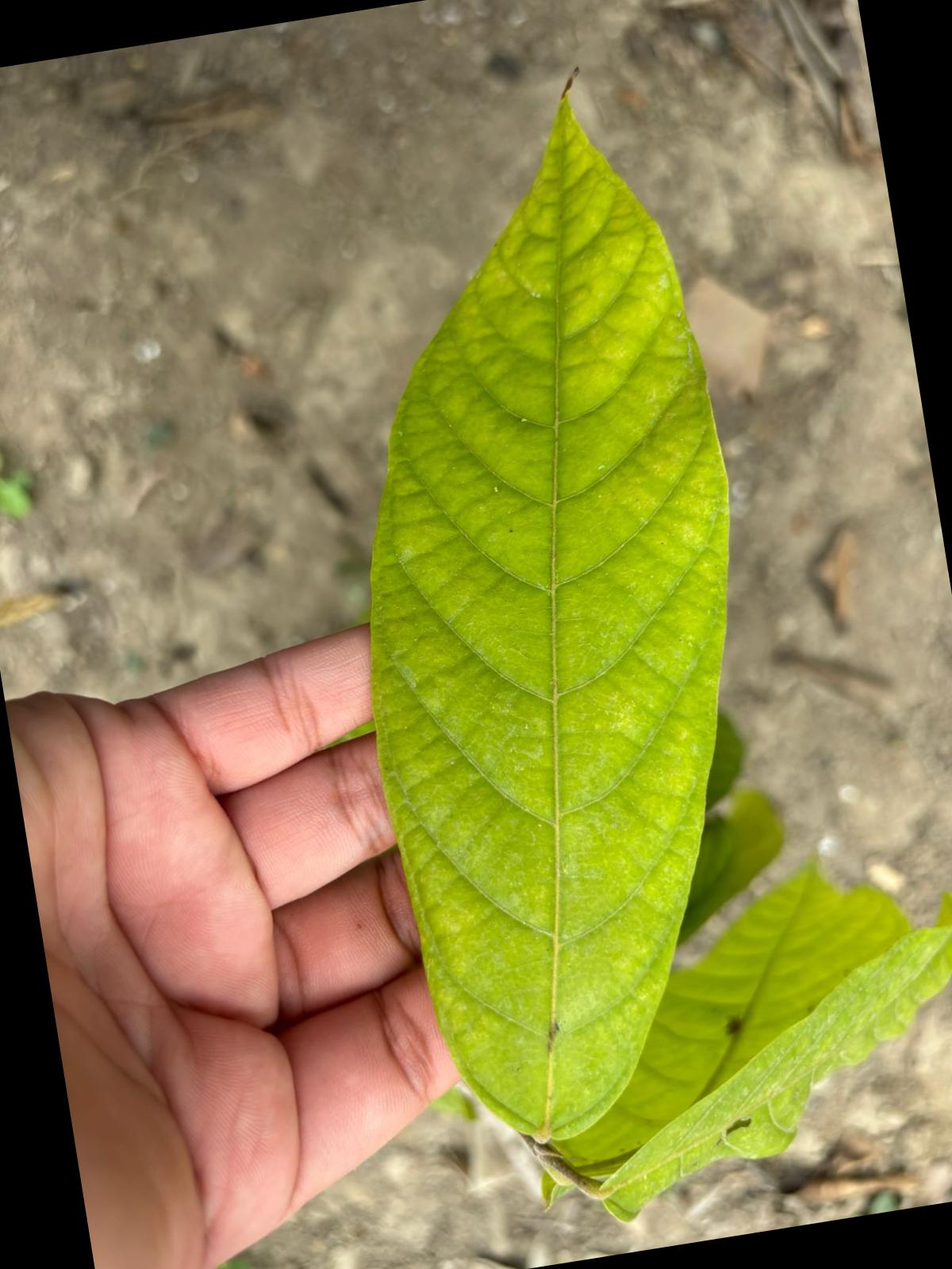Nitrogeno: (370, 99, 727, 1139)
